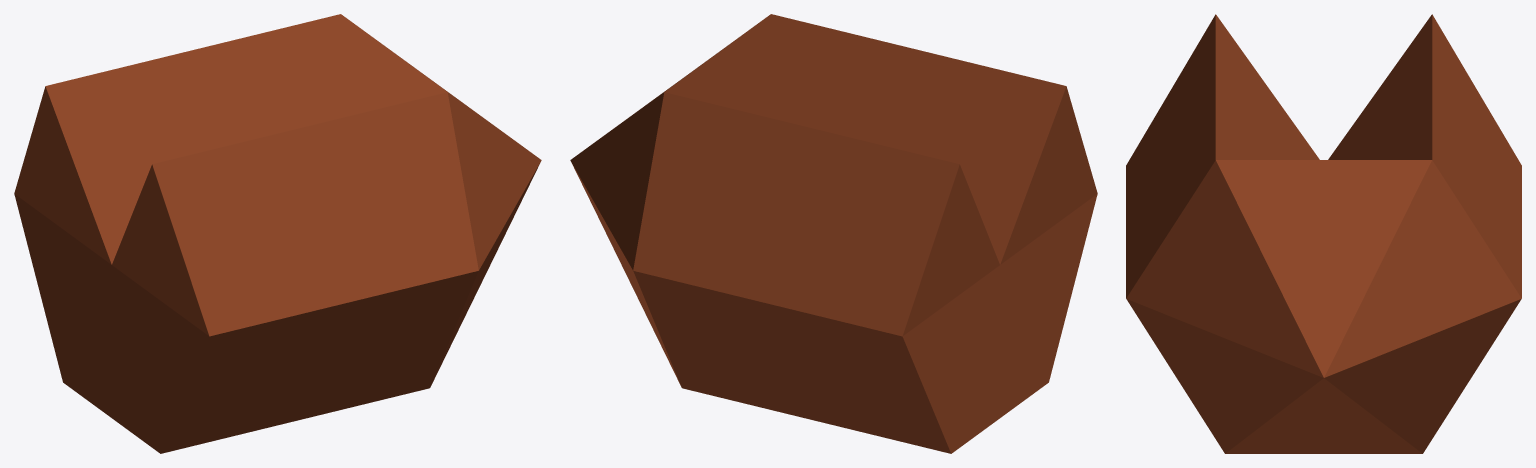
Rendered from InsideHouse.fbx.
3 views of the same model, side by side, from view 1: azimuth 30°, elevation 25°; view 2: azimuth 150°, elevation 25°; view 3: azimuth 270°, elevation 25° (orthographic).
Visible parts, largest first — view 1: Cylinder.010; view 2: Cylinder.010; view 3: Cylinder.010.
Boxes of the visible parts, x1=… form: Cylinder.010: x1=14, y1=14, x2=541, y2=453; Cylinder.010: x1=570, y1=14, x2=1097, y2=453; Cylinder.010: x1=1126, y1=14, x2=1521, y2=453.
Size of the model in its own units: 538 by 450 by 705.
